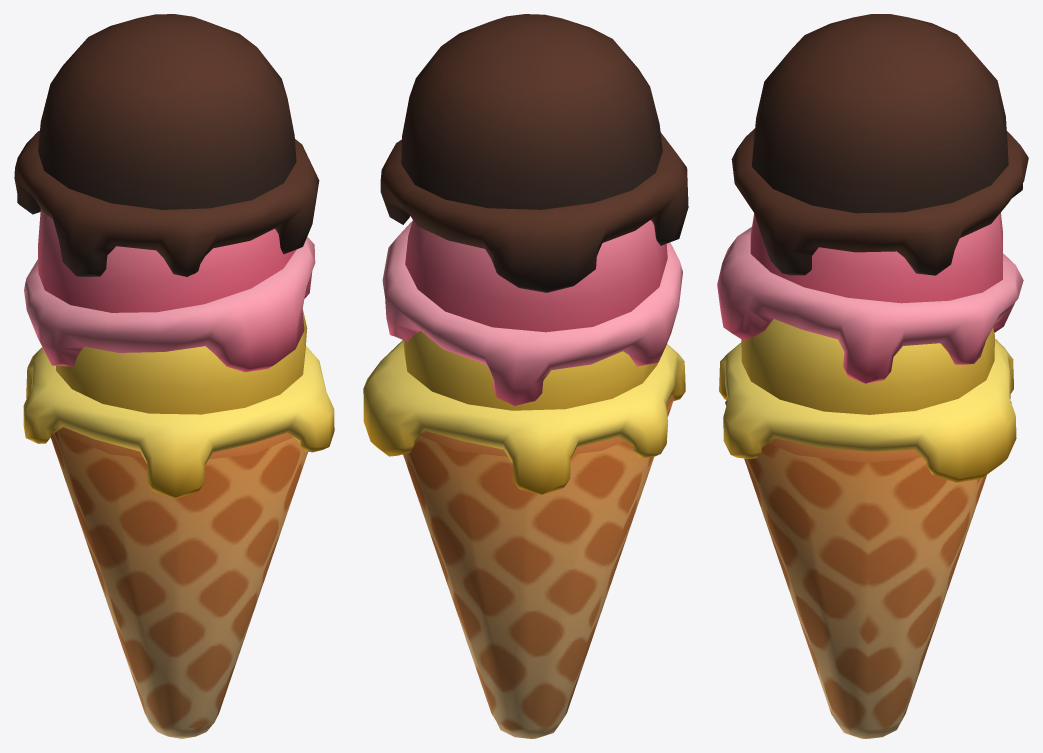
The model's file is m_IceCream15.fbx.
3 views of the same model, side by side, from view 1: azimuth 30°, elevation 25°; view 2: azimuth 150°, elevation 25°; view 3: azimuth 270°, elevation 25° (orthographic).
Parts seen in each view (by area): view 1: m_IceCream15; view 2: m_IceCream15; view 3: m_IceCream15.
Boxes of the visible parts, x1,y1,x2,y2 form: m_IceCream15: [14, 14, 334, 738]; m_IceCream15: [363, 14, 688, 738]; m_IceCream15: [717, 14, 1028, 738].
Bounding box in the file's own units: 9.69 × 24.15 × 9.69.
